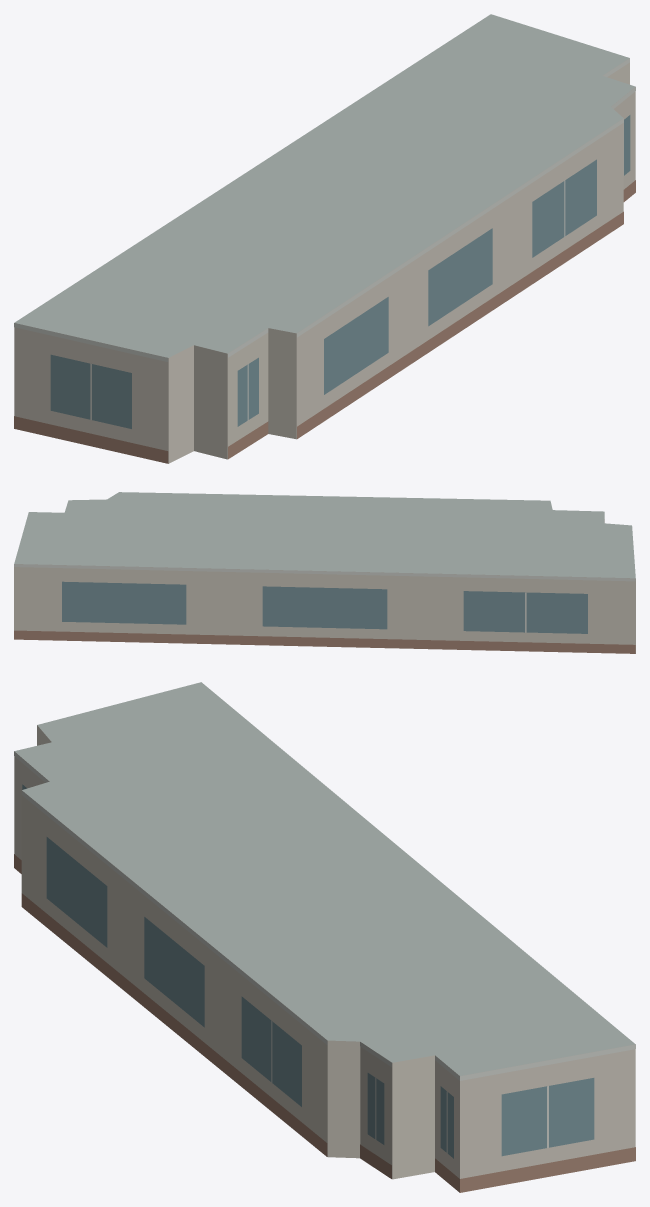
The model's file is survey-upis-32926593.glb.
3 renders of one model, top to bottom at view 1: azimuth 30°, elevation 25°; view 2: azimuth 150°, elevation 25°; view 3: azimuth 270°, elevation 25°, orthographic. The views are drawn at different scales.
Parts seen in each view (by area): view 1: survey-upis-32926593.tmp; view 2: survey-upis-32926593.tmp; view 3: survey-upis-32926593.tmp.
Part boxes in pixels (x1,y1,x2,y2): survey-upis-32926593.tmp: [14, 14, 635, 463]; survey-upis-32926593.tmp: [14, 492, 635, 653]; survey-upis-32926593.tmp: [14, 682, 635, 1192].
Bounding box in the file's own units: 22.11 × 3.05 × 14.74.
